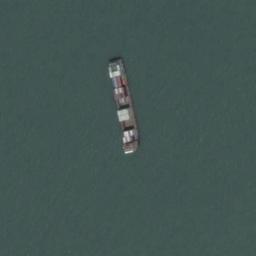boat: (107, 56, 140, 154)
